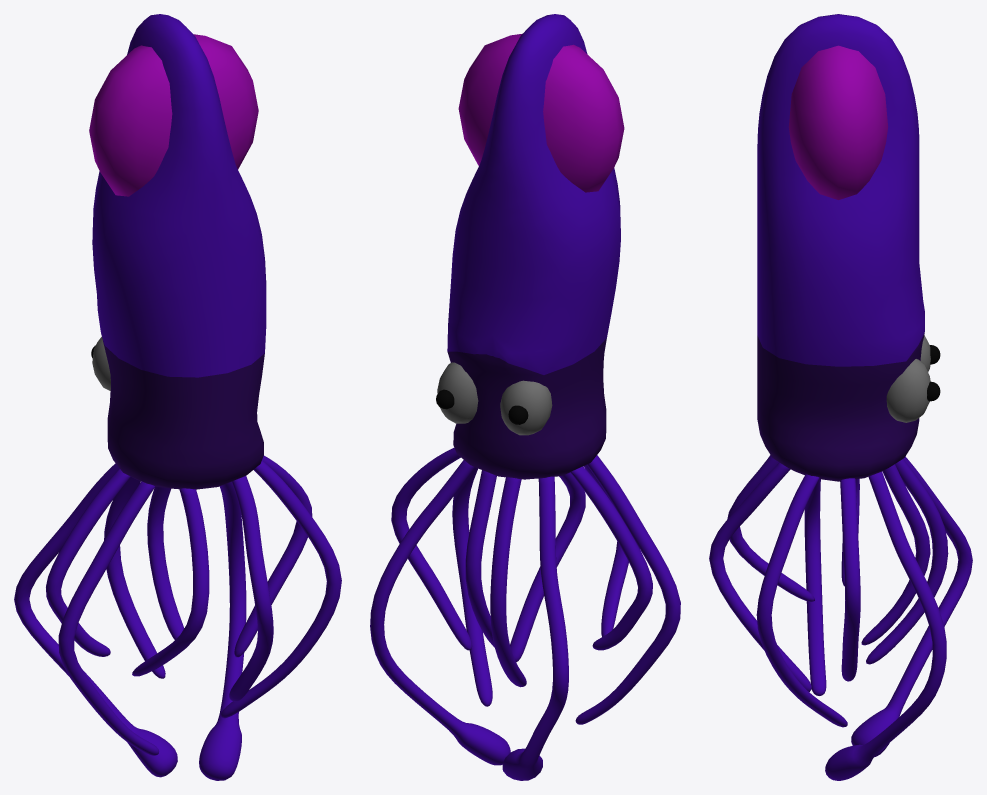
Rendered from squid-6.obj.
3 renders of one model, left to right at view 1: azimuth 30°, elevation 25°; view 2: azimuth 150°, elevation 25°; view 3: azimuth 270°, elevation 25°, orthographic. The views are drawn at different scales.
Visible parts, largest first — view 1: Squid_Cube.1543, Squid.001_Cube.1545; view 2: Squid_Cube.1543, Squid.001_Cube.1545; view 3: Squid_Cube.1543, Squid.001_Cube.1545.
Boxes of the visible parts, x1=… form: Squid_Cube.1543: x1=14, y1=14, x2=341, y2=780; Squid.001_Cube.1545: x1=91, y1=337, x2=110, y2=390; Squid_Cube.1543: x1=370, y1=14, x2=680, y2=780; Squid.001_Cube.1545: x1=436, y1=362, x2=552, y2=435; Squid_Cube.1543: x1=709, y1=14, x2=972, y2=780; Squid.001_Cube.1545: x1=886, y1=335, x2=940, y2=422.
Bounding box in the file's own units: 2.72 × 7.37 × 2.37.
